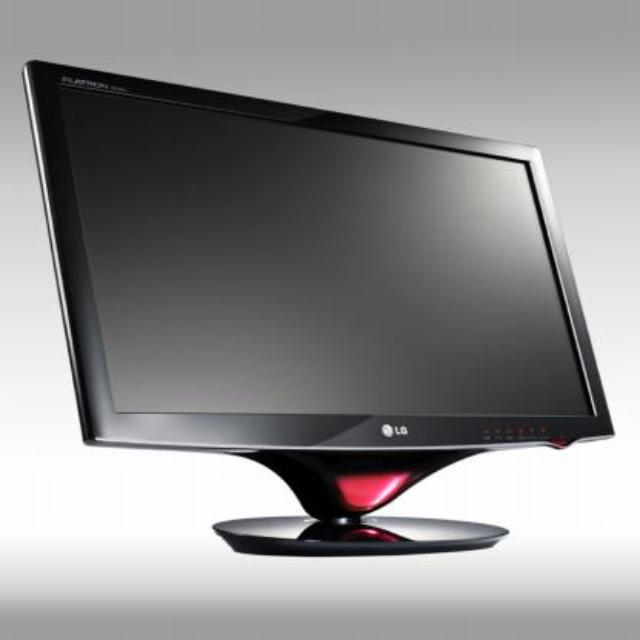Flat-Panel-Monitor: (4, 29, 622, 578)
